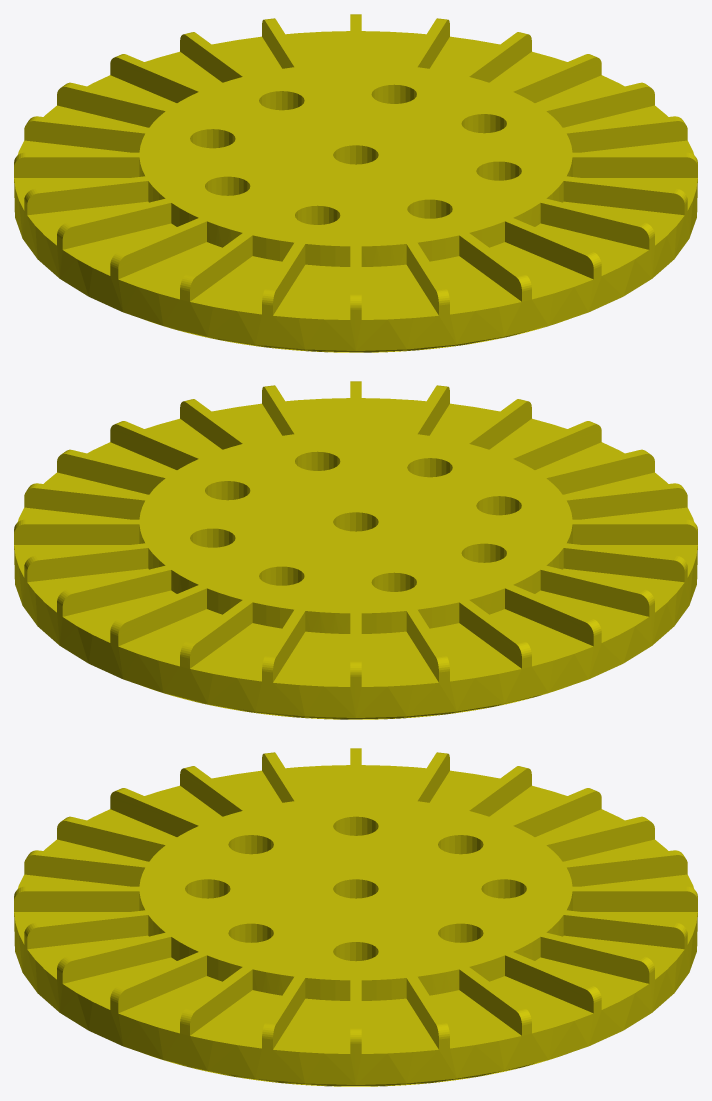
File: TrucBearing_Tren.glb
The picture shows the model from 3 angles, top to bottom: view 1: azimuth 30°, elevation 25°; view 2: azimuth 150°, elevation 25°; view 3: azimuth 270°, elevation 25°; orthographic projection.
Parts seen in each view (by area): view 1: defaultobject; view 2: defaultobject; view 3: defaultobject.
Part boxes in pixels (left/top/right/bottom): defaultobject: left=14, top=14, right=697, bottom=352; defaultobject: left=14, top=381, right=697, bottom=719; defaultobject: left=14, top=748, right=697, bottom=1086.
Size of the model in its own units: 177 by 17.68 by 177.
